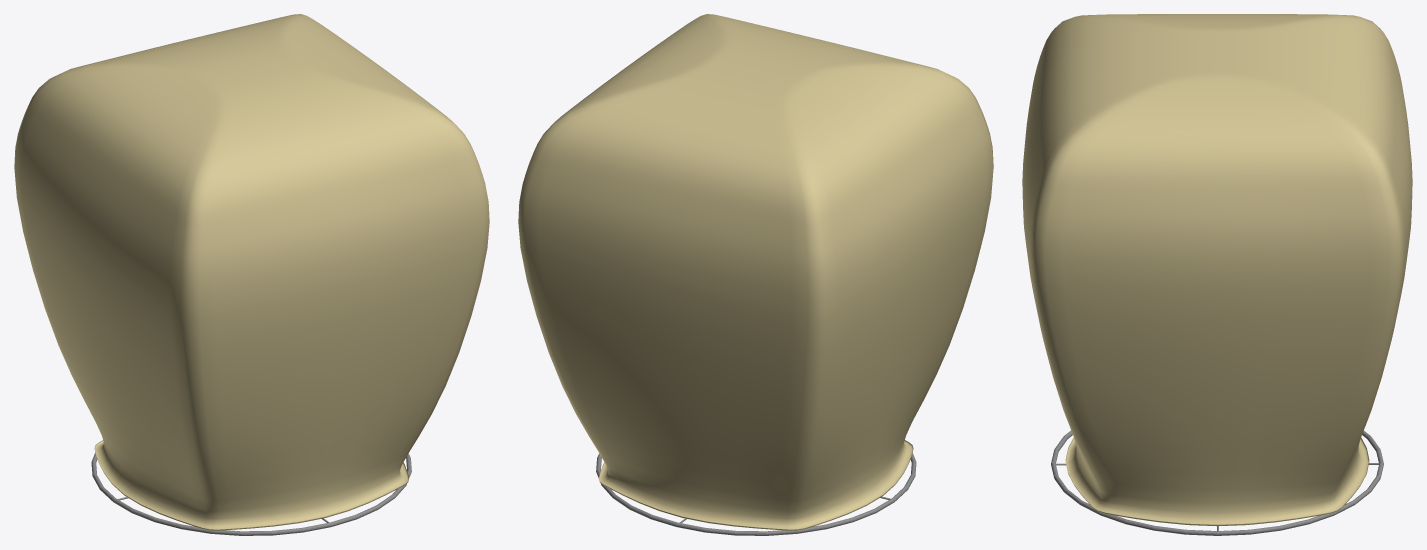
Rendered from 孔明灯.fbx.
3 renders of one model, left to right at view 1: azimuth 30°, elevation 25°; view 2: azimuth 150°, elevation 25°; view 3: azimuth 270°, elevation 25°, orthographic. The views are drawn at different scales.
Parts seen in each view (by area): view 1: 立方体, 圆环; view 2: 立方体, 圆环; view 3: 立方体, 圆环.
Boxes of the visible parts, x1=… form: 立方体: x1=14, y1=14, x2=489, y2=530; 圆环: x1=91, y1=453, x2=411, y2=535; 立方体: x1=518, y1=14, x2=993, y2=530; 圆环: x1=596, y1=453, x2=916, y2=535; 立方体: x1=1022, y1=14, x2=1412, y2=526; 圆环: x1=1051, y1=430, x2=1383, y2=535.
Bounding box in the file's own units: 244 × 285 × 244.
